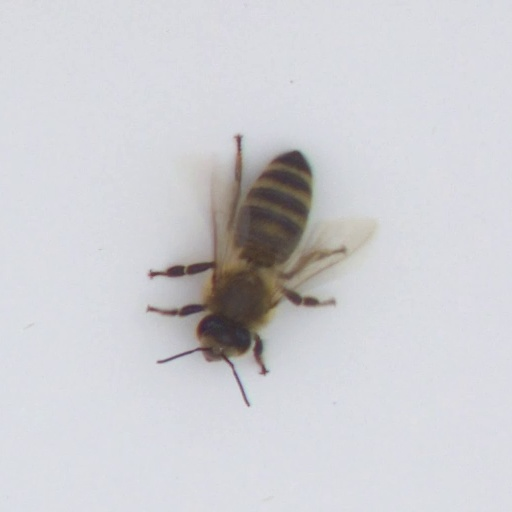Bee: (178, 135, 338, 377)
Thorax: (202, 263, 276, 326)
